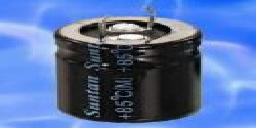Electrolytic-Capacitor: (51, 5, 207, 122)
